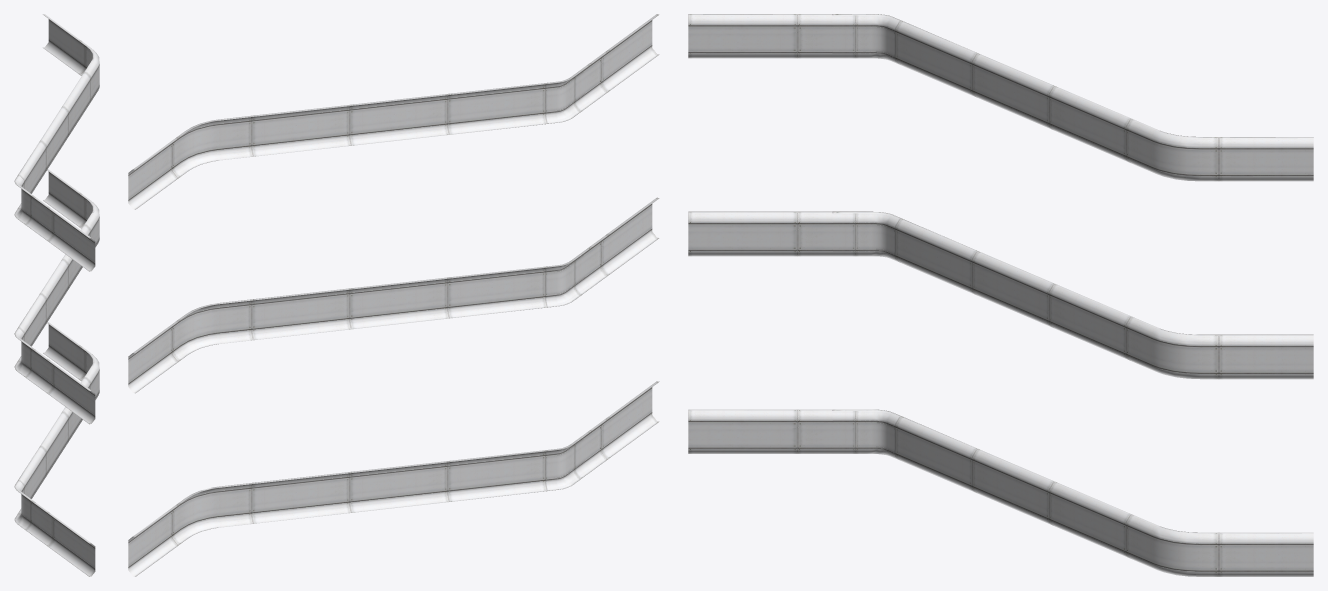
File: HubFAC_Sup01.FBX
3 views of the same model, side by side, from view 1: azimuth 30°, elevation 25°; view 2: azimuth 150°, elevation 25°; view 3: azimuth 270°, elevation 25° (orthographic). The views are drawn at different scales.
Visible parts, largest first — view 1: HubFAC_Sup01; view 2: HubFAC_Sup01; view 3: HubFAC_Sup01.
Boxes of the visible parts, x1=… form: HubFAC_Sup01: x1=14, y1=14, x2=99, y2=576; HubFAC_Sup01: x1=128, y1=14, x2=659, y2=576; HubFAC_Sup01: x1=688, y1=14, x2=1313, y2=576.
Size of the model in its own units: 8.24 by 13.3 by 17.19.
